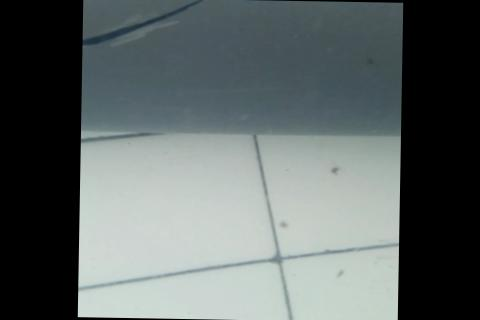keretakan: (82, 0, 207, 54)
